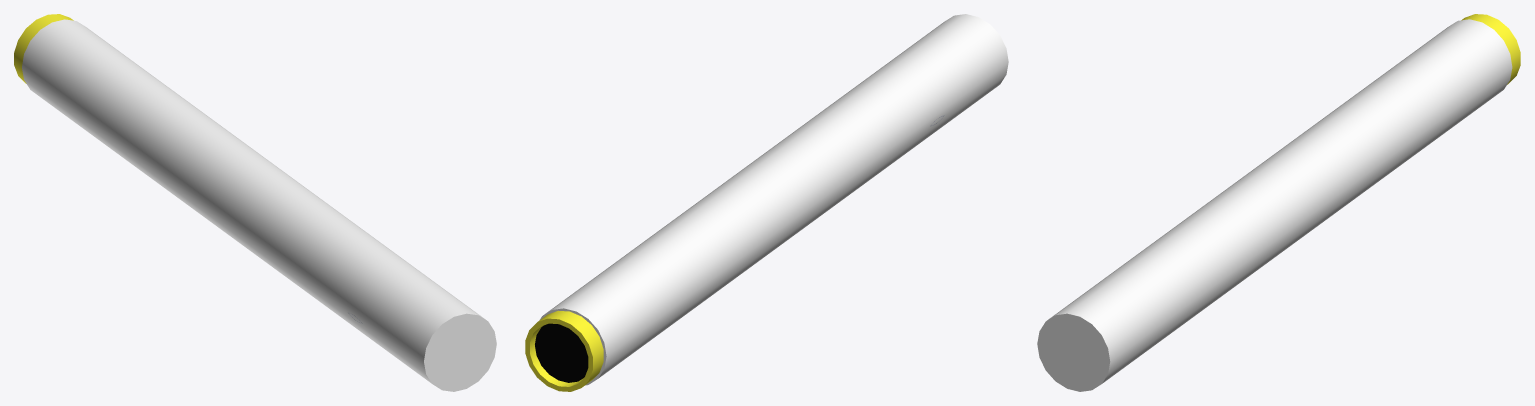
The model's file is LaserCannon.FBX.
3 renders of one model, left to right at view 1: azimuth 30°, elevation 25°; view 2: azimuth 150°, elevation 25°; view 3: azimuth 330°, elevation 25°, orthographic.
Parts seen in each view (by area): view 1: Cylinder002, Tube015; view 2: Cylinder002, Tube015, Cylinder003; view 3: Cylinder002, Tube015.
Part boxes in pixels (left/top/right/bottom): Cylinder002: left=22, top=19, right=496, bottom=391; Tube015: left=14, top=14, right=73, bottom=83; Cylinder002: left=539, top=14, right=1008, bottom=385; Tube015: left=525, top=310, right=603, bottom=391; Cylinder003: left=535, top=323, right=588, bottom=382; Cylinder002: left=1037, top=19, right=1512, bottom=391; Tube015: left=1461, top=14, right=1520, bottom=84.
Size of the model in its own units: 12.25 by 12.06 by 120.
3 materials, 3 textured.
